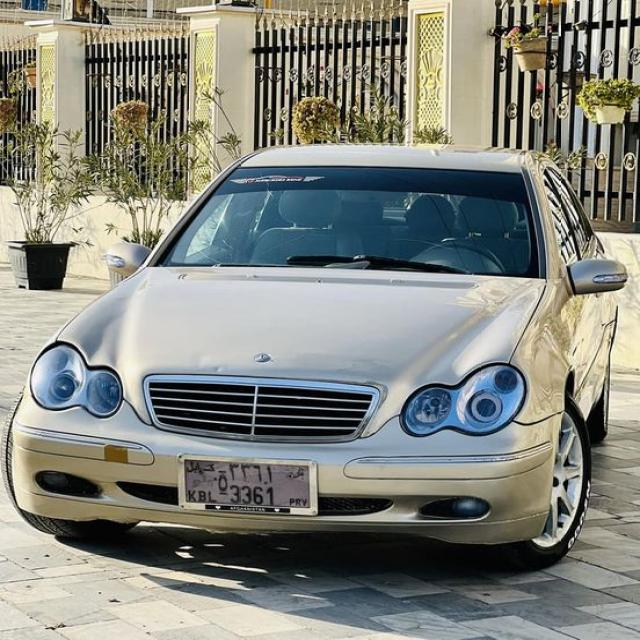Plate: (174, 450, 320, 518)
